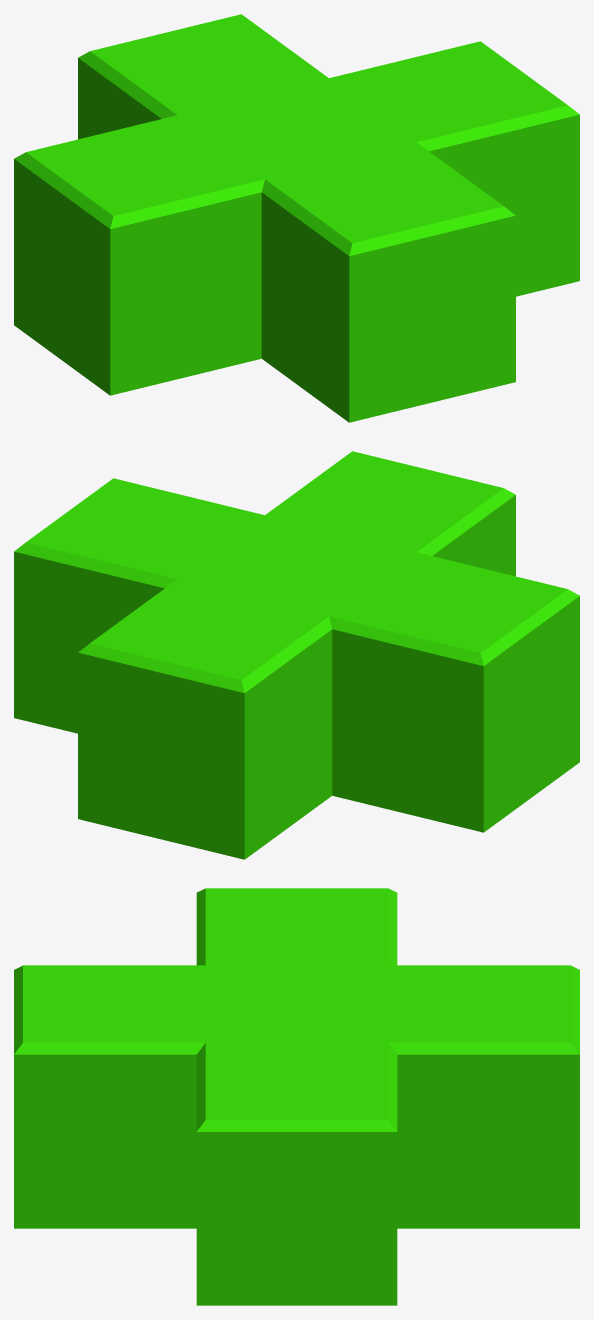
File: basic_X_1.fbx
3 views of the same model, one above another, from view 1: azimuth 30°, elevation 25°; view 2: azimuth 150°, elevation 25°; view 3: azimuth 270°, elevation 25° (orthographic). The views are drawn at different scales.
Parts seen in each view (by area): view 1: basic_X_1; view 2: basic_X_1; view 3: basic_X_1.
Boxes of the visible parts, x1,y1,x2,y2 form: basic_X_1: (14,14,579,422); basic_X_1: (14,451,579,859); basic_X_1: (14,888,579,1305).
Bounding box in the file's own units: 310 × 110 × 310.
